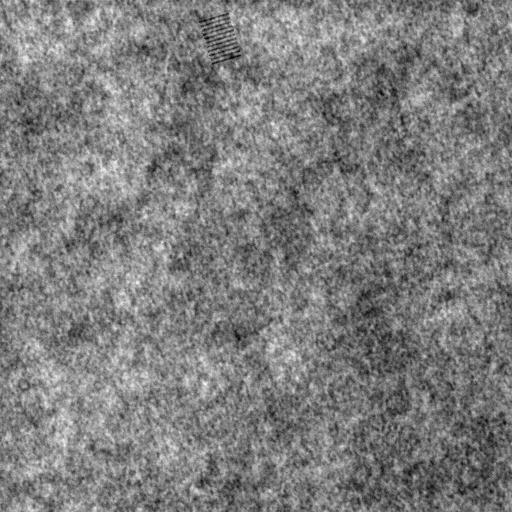impact: (197, 11, 245, 66)
